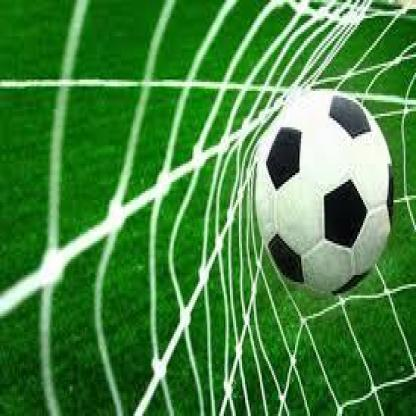ball: (256, 90, 394, 294)
